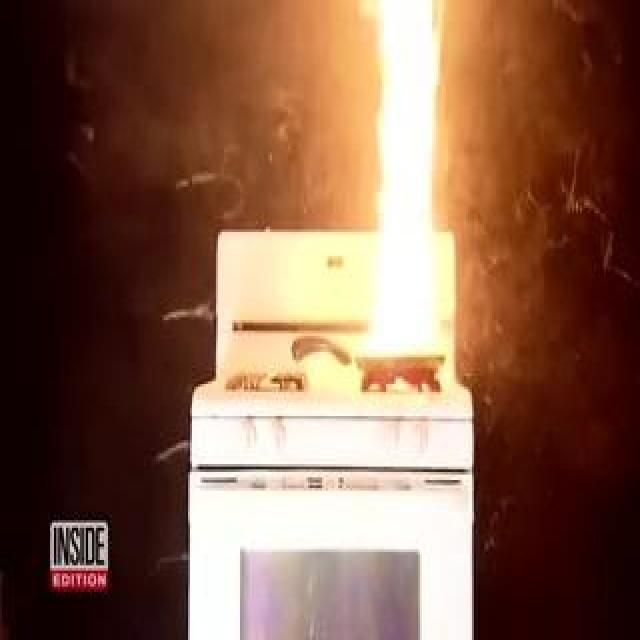Fire: (355, 231, 449, 425)
